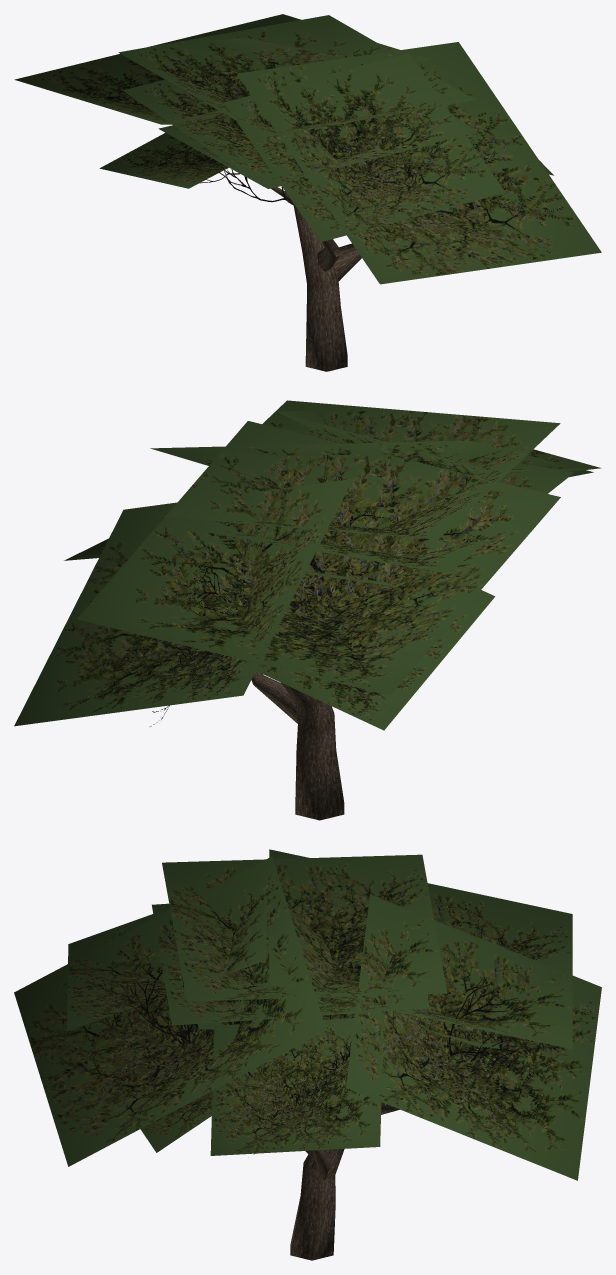
File: decd_mkpodtree_l0.fbx
3 renders of one model, top to bottom at view 1: azimuth 30°, elevation 25°; view 2: azimuth 150°, elevation 25°; view 3: azimuth 270°, elevation 25°, orthographic. The views are drawn at different scales.
Parts seen in each view (by area): view 1: mesh_node; view 2: mesh_node; view 3: mesh_node.
Part boxes in pixels (x1,y1,x2,y2): mesh_node: [14, 14, 601, 371]; mesh_node: [14, 400, 601, 820]; mesh_node: [14, 849, 601, 1260].
Bounding box in the file's own units: 12 × 10.1 × 15.87.
